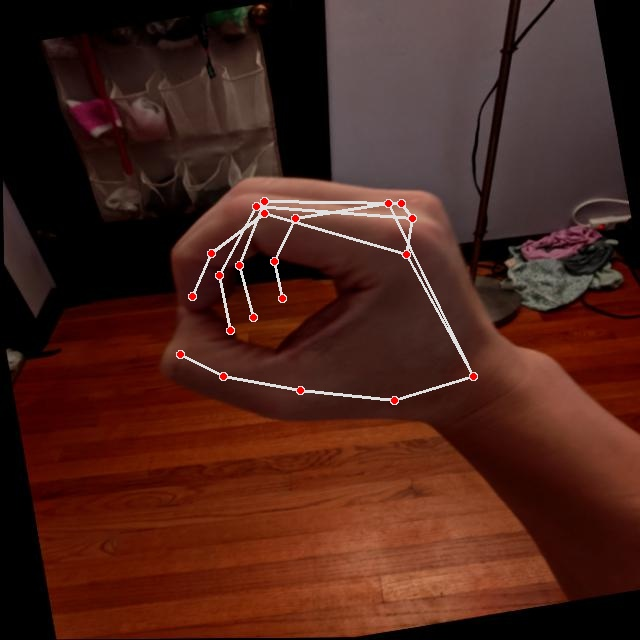O: (122, 136, 519, 464)
